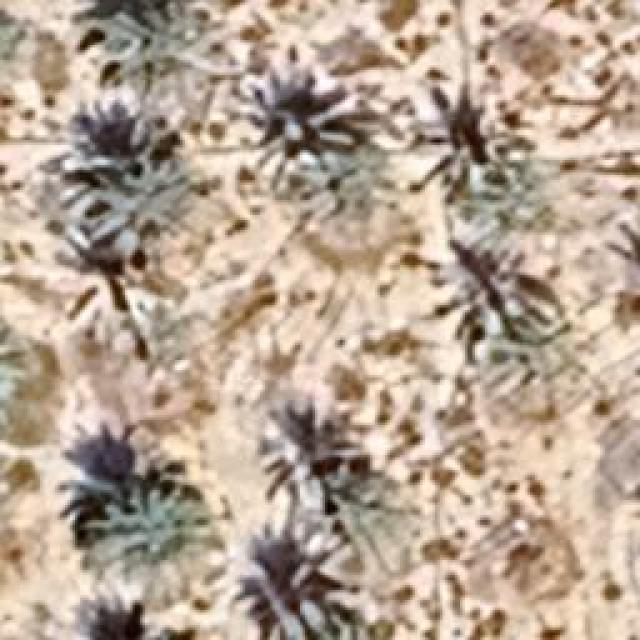PalmTree: (15, 46, 118, 295), (58, 105, 188, 240), (85, 482, 225, 602), (262, 98, 386, 225), (422, 232, 552, 350), (255, 398, 368, 528), (85, 0, 205, 95), (426, 125, 539, 223), (238, 558, 352, 638), (0, 456, 41, 590), (278, 611, 396, 640), (0, 312, 30, 390), (0, 0, 23, 89)
